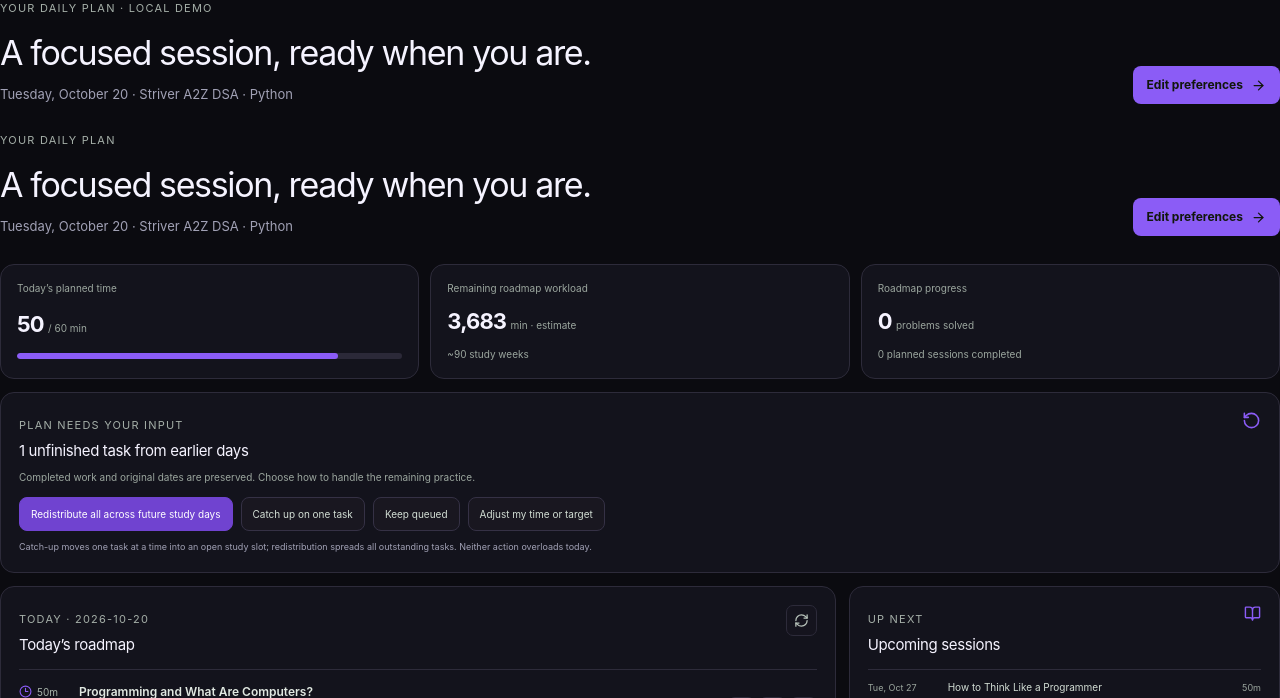
daily planner flow › shows a recovery choice and redistributes missed tasks without losing their original history
Step 1. Click the button "Redistribute all across future study days" → (126, 514), box top-left (19, 497), bottom-right (232, 531)
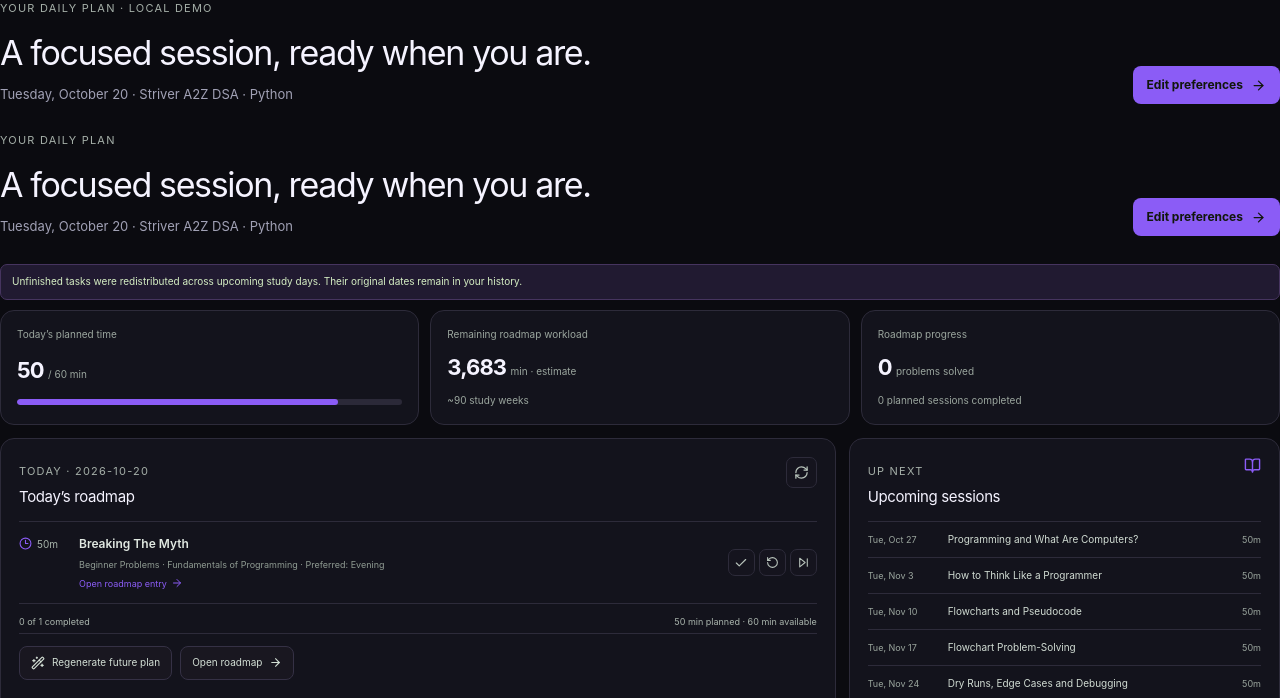
Now the message shows "redistributed", box top-left (12, 275), bottom-right (522, 287)
